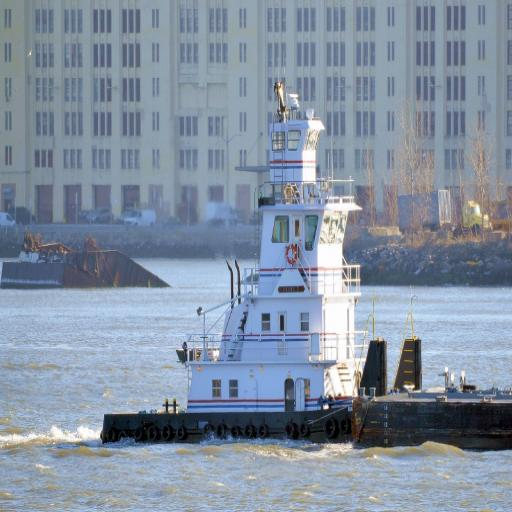tugboat: (97, 86, 429, 453)
